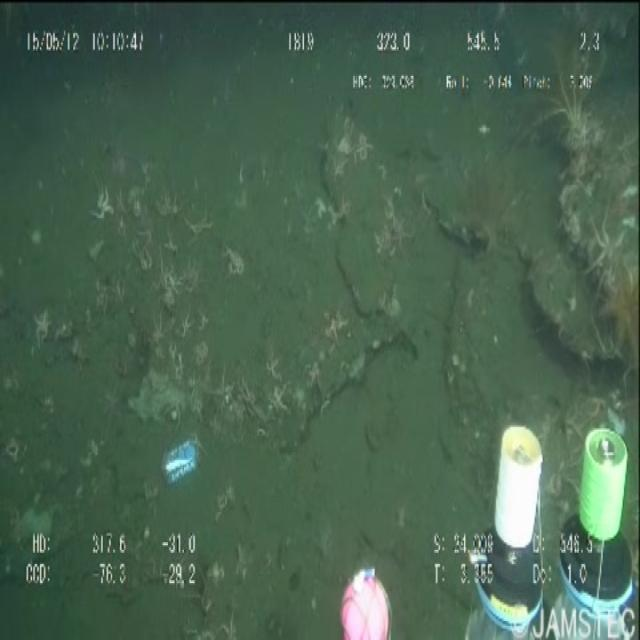Metal: (159, 431, 213, 486)
